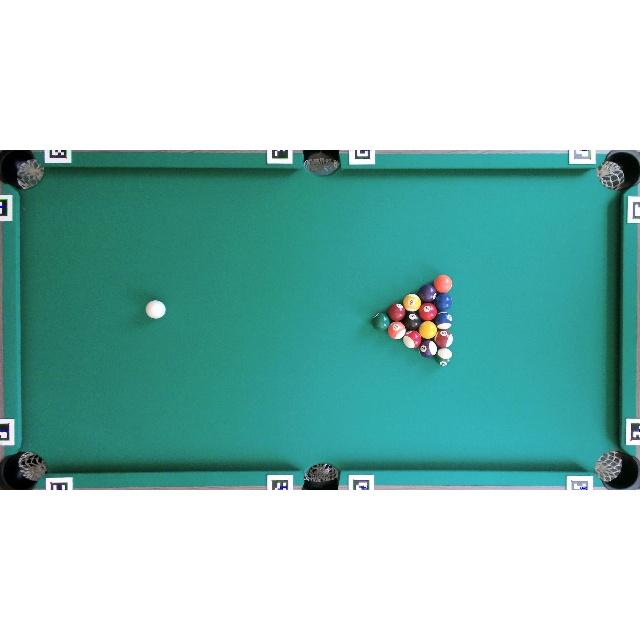cue ball: (145, 299, 166, 319)
other: (418, 320, 438, 339), (434, 311, 453, 330), (403, 330, 422, 349), (417, 284, 437, 302), (404, 312, 422, 331), (434, 275, 453, 293), (419, 340, 438, 358), (435, 330, 454, 348), (388, 303, 406, 322), (435, 348, 453, 367), (435, 294, 453, 312), (419, 302, 437, 320), (404, 294, 422, 312), (388, 322, 406, 339), (372, 312, 389, 330)
